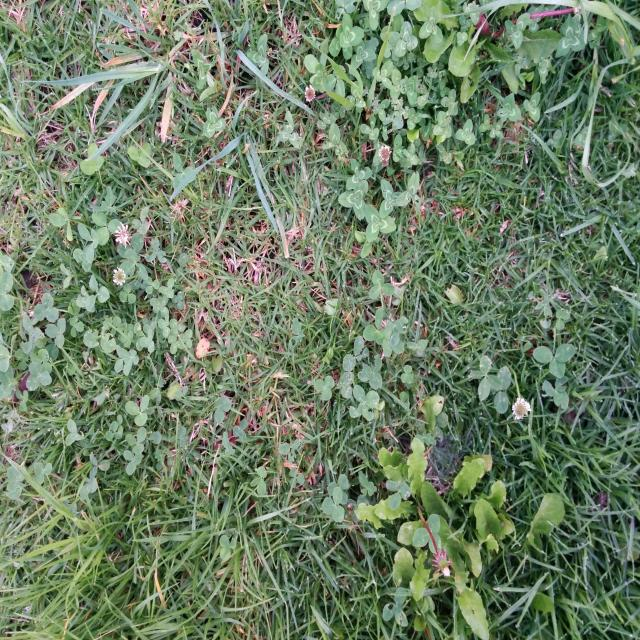Four Leaf Clover: (469, 355, 502, 401), (349, 384, 380, 421)
